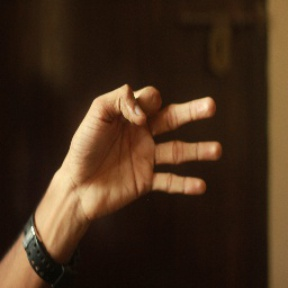K: (75, 69, 224, 218)
